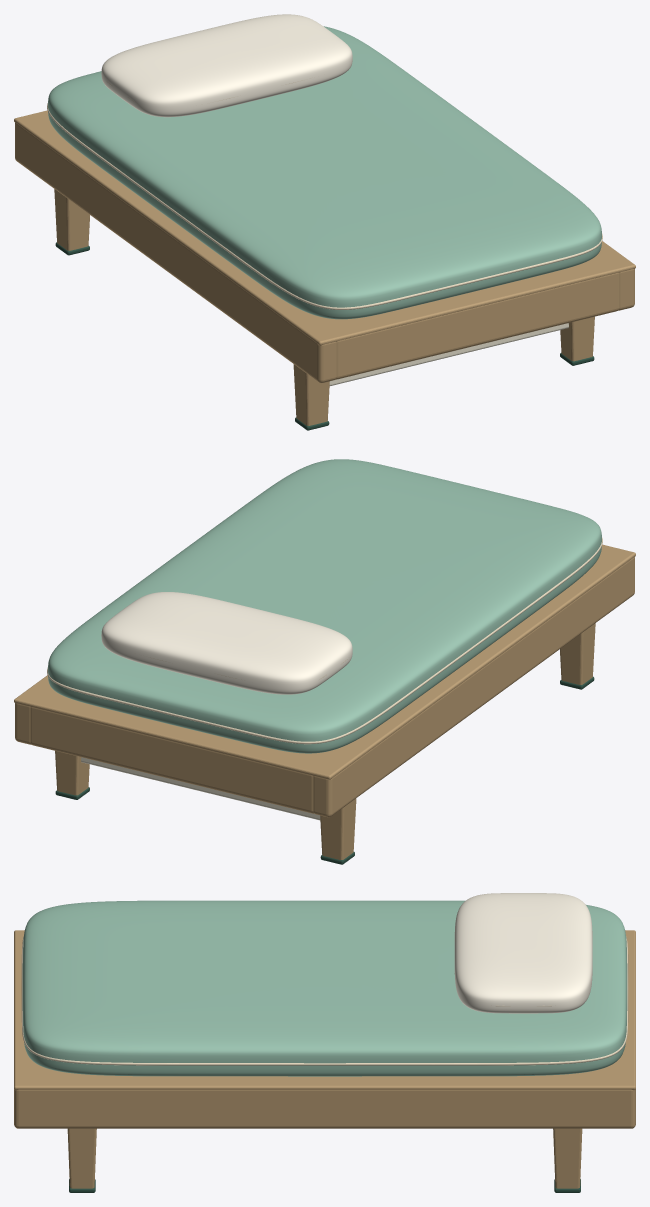
The model's file is exam-bed.glb.
The picture shows the model from 3 angles, top to bottom: view 1: azimuth 30°, elevation 25°; view 2: azimuth 150°, elevation 25°; view 3: azimuth 270°, elevation 25°; orthographic projection.
Parts seen in each view (by area): view 1: exam-bed | Bed vinyl | soft sage mint, exam-bed | Wood | warm honey oak, exam-bed | Pillow | warm cotton, exam-bed | Piping | pale vanilla, exam-bed | Frame | warm cream enamel; view 2: exam-bed | Bed vinyl | soft sage mint, exam-bed | Wood | warm honey oak, exam-bed | Pillow | warm cotton, exam-bed | Piping | pale vanilla, exam-bed | Frame | warm cream enamel; view 3: exam-bed | Bed vinyl | soft sage mint, exam-bed | Wood | warm honey oak, exam-bed | Pillow | warm cotton, exam-bed | Piping | pale vanilla.
Part boxes in pixels (<box>): exam-bed | Bed vinyl | soft sage mint: <box>48,26,601,319</box>; exam-bed | Wood | warm honey oak: <box>14,110,635,425</box>; exam-bed | Pillow | warm cotton: <box>101,14,352,117</box>; exam-bed | Piping | pale vanilla: <box>47,78,602,309</box>; exam-bed | Frame | warm cream enamel: <box>329,323,568,385</box>; exam-bed | Bed vinyl | soft sage mint: <box>48,459,601,753</box>; exam-bed | Wood | warm honey oak: <box>14,544,635,859</box>; exam-bed | Pillow | warm cotton: <box>101,592,352,694</box>; exam-bed | Piping | pale vanilla: <box>47,537,602,744</box>; exam-bed | Frame | warm cream enamel: <box>81,757,320,820</box>; exam-bed | Bed vinyl | soft sage mint: <box>22,900,627,1076</box>; exam-bed | Wood | warm honey oak: <box>14,930,635,1188</box>; exam-bed | Pillow | warm cotton: <box>454,893,592,1013</box>; exam-bed | Piping | pale vanilla: <box>21,932,628,1065</box>.
Size of the model in its own units: 2.15 by 1.18 by 3.6.
